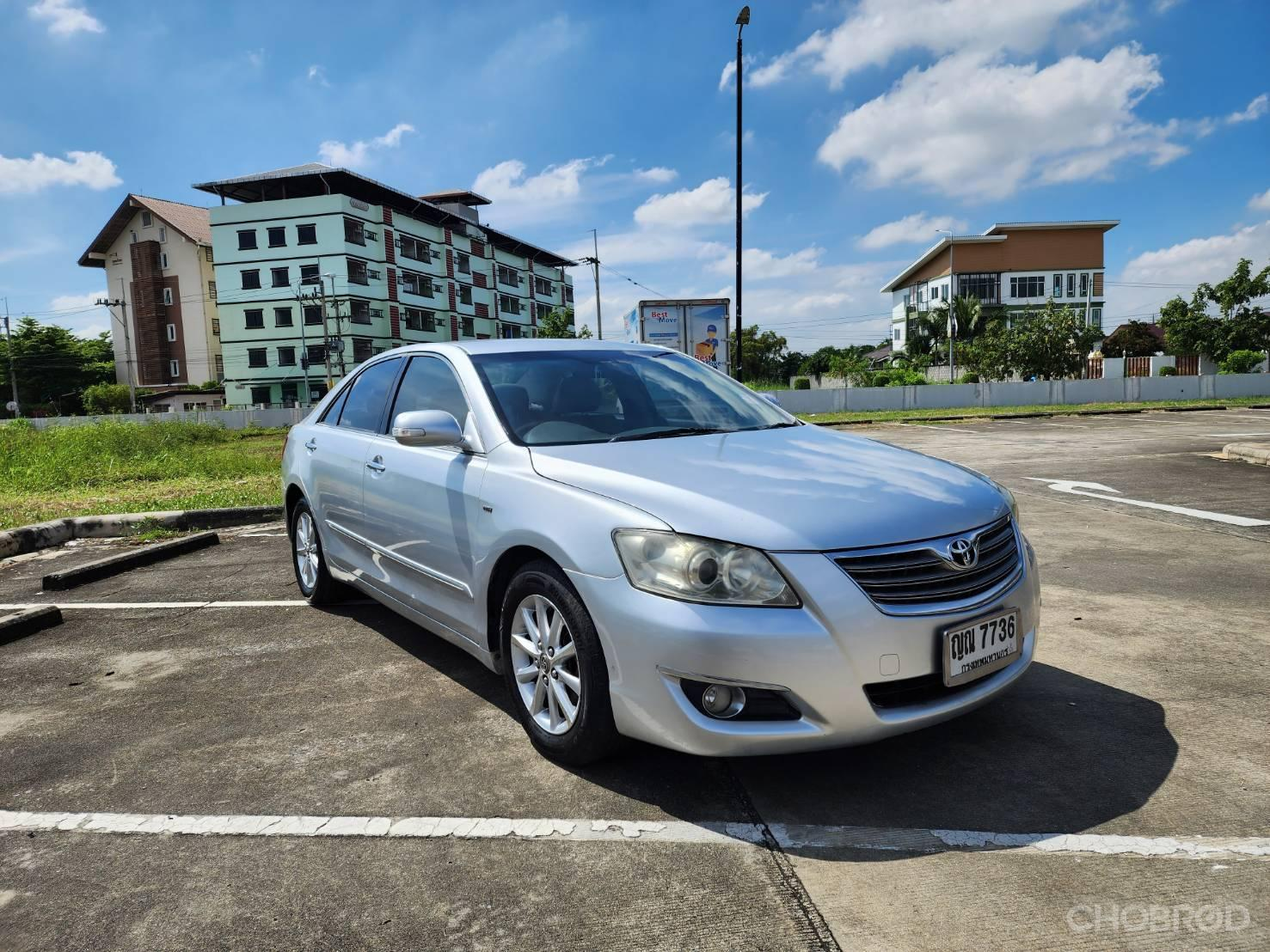license-plate: (938, 604, 1024, 690)
